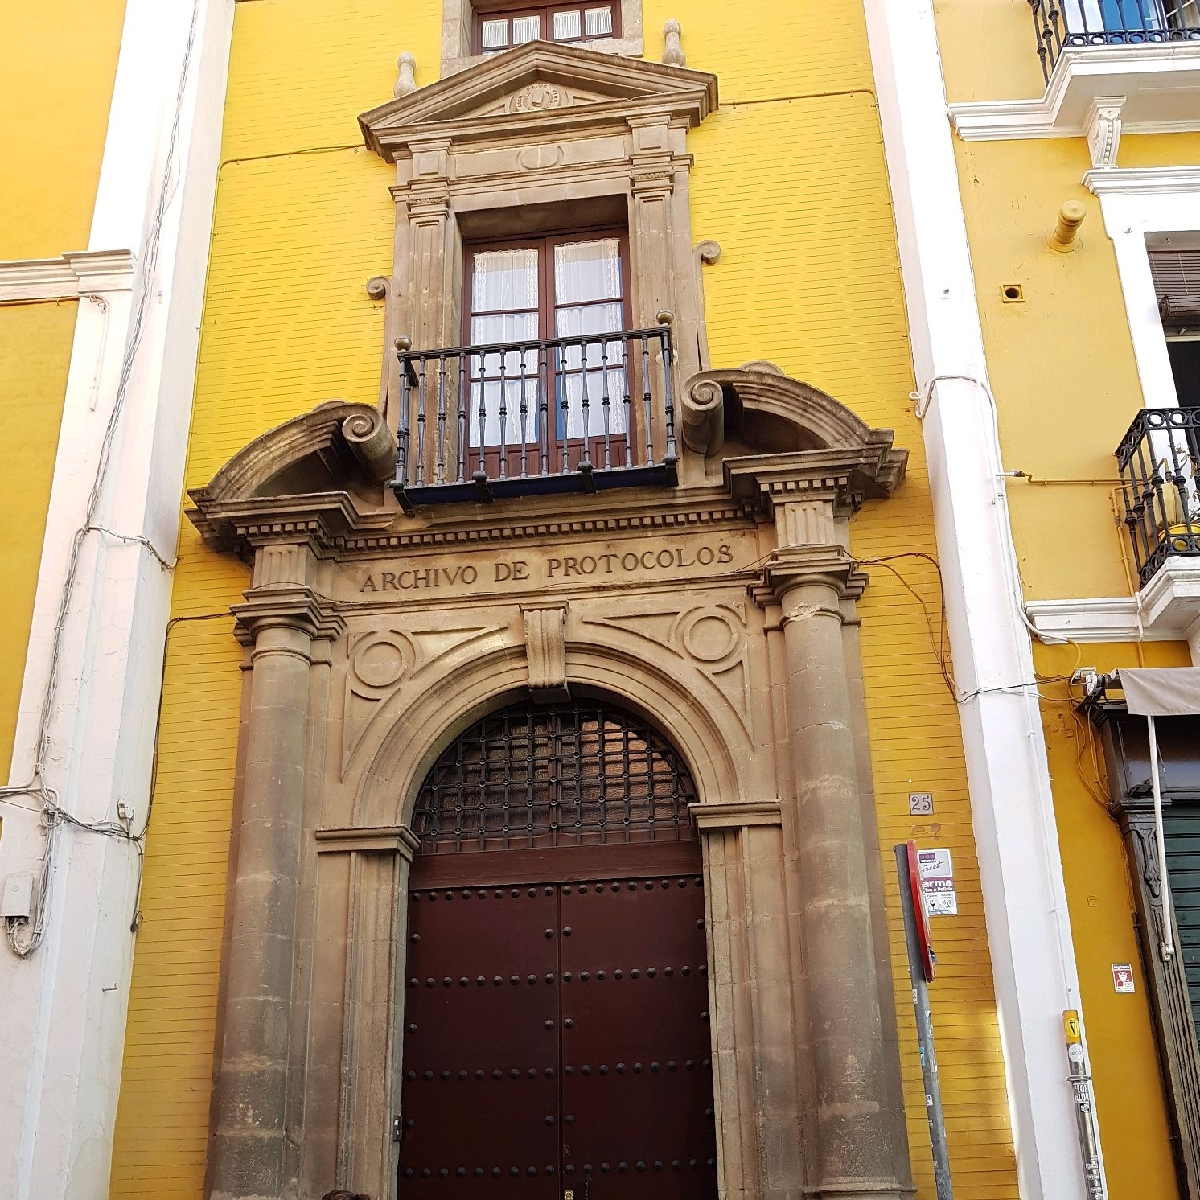arco-medio-punto: (376, 654, 723, 869)
fronton: (346, 36, 707, 143)
fronton-partido: (213, 368, 898, 525)
vano-adintelado: (435, 151, 665, 474)
